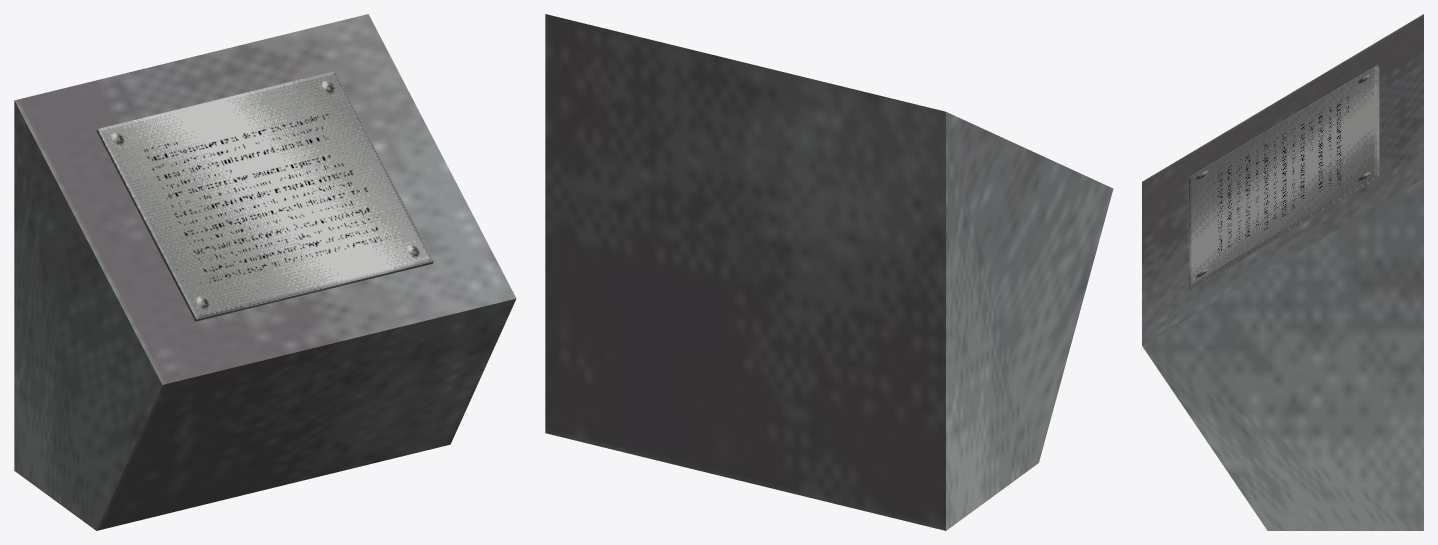
File: info_stand.fbx
The picture shows the model from 3 angles, left to right: view 1: azimuth 30°, elevation 25°; view 2: azimuth 150°, elevation 25°; view 3: azimuth 270°, elevation 25°; orthographic projection. The views are drawn at different scales.
Parts seen in each view (by area): view 1: Cube, Cube.001; view 2: Cube; view 3: Cube, Cube.001.
Part boxes in pixels (x1=…): Cube: x1=14, y1=14, x2=516, y2=530; Cube.001: x1=96, y1=71, x2=433, y2=321; Cube: x1=545, y1=14, x2=1113, y2=530; Cube: x1=1142, y1=14, x2=1423, y2=530; Cube.001: x1=1188, y1=65, x2=1379, y2=289.
Bounding box in the file's own units: 200 × 200 × 145.
